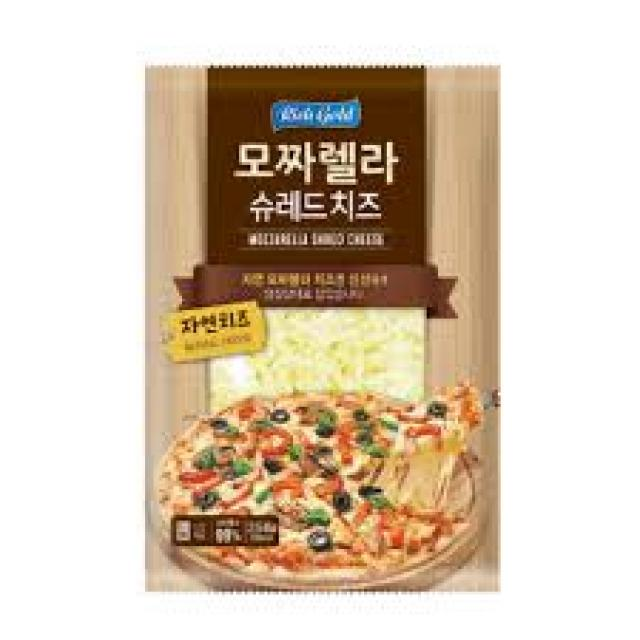Cheese: (141, 62, 494, 588)
